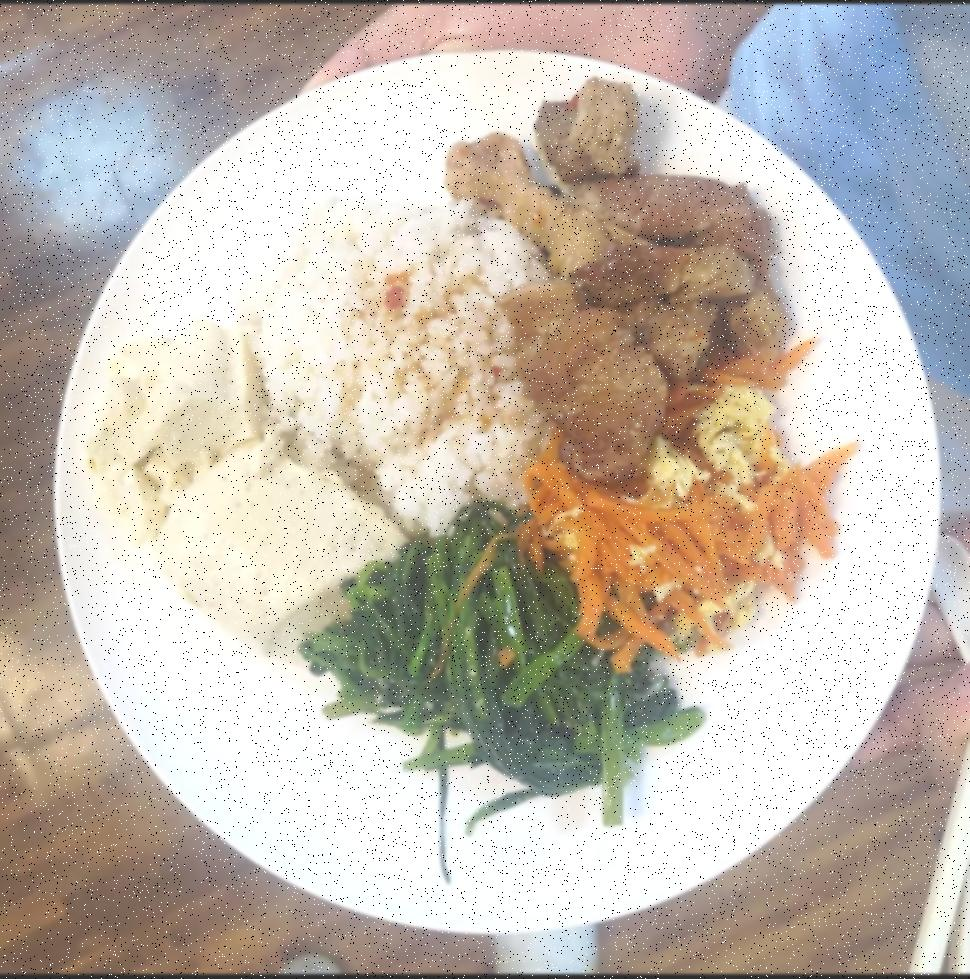braised pork: (450, 90, 814, 488)
plate: (38, 28, 950, 950)
side dish: (310, 526, 682, 812), (86, 332, 402, 660), (526, 392, 846, 658)
white rice: (258, 196, 570, 534)
